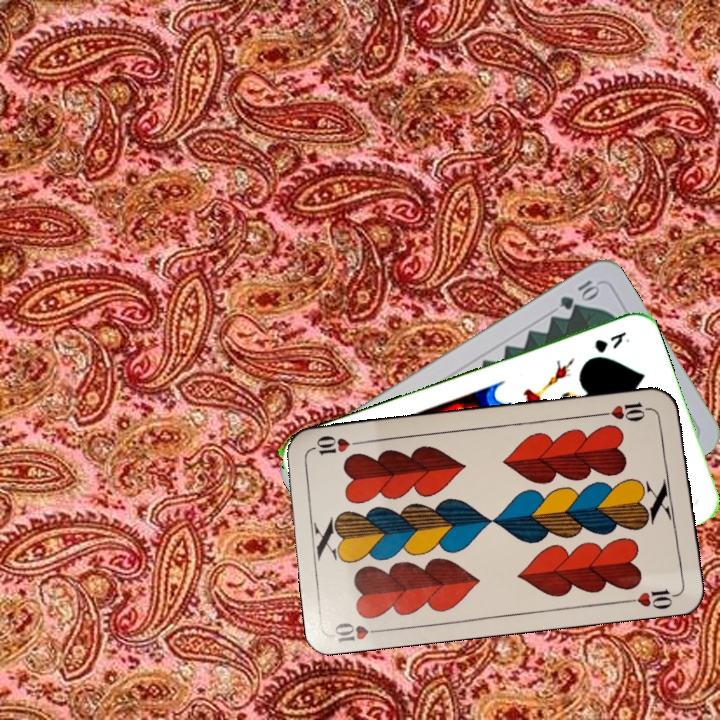G10: (555, 275, 602, 313)
GK: (591, 327, 633, 356)
H10: (330, 618, 389, 645), (597, 398, 656, 424)
